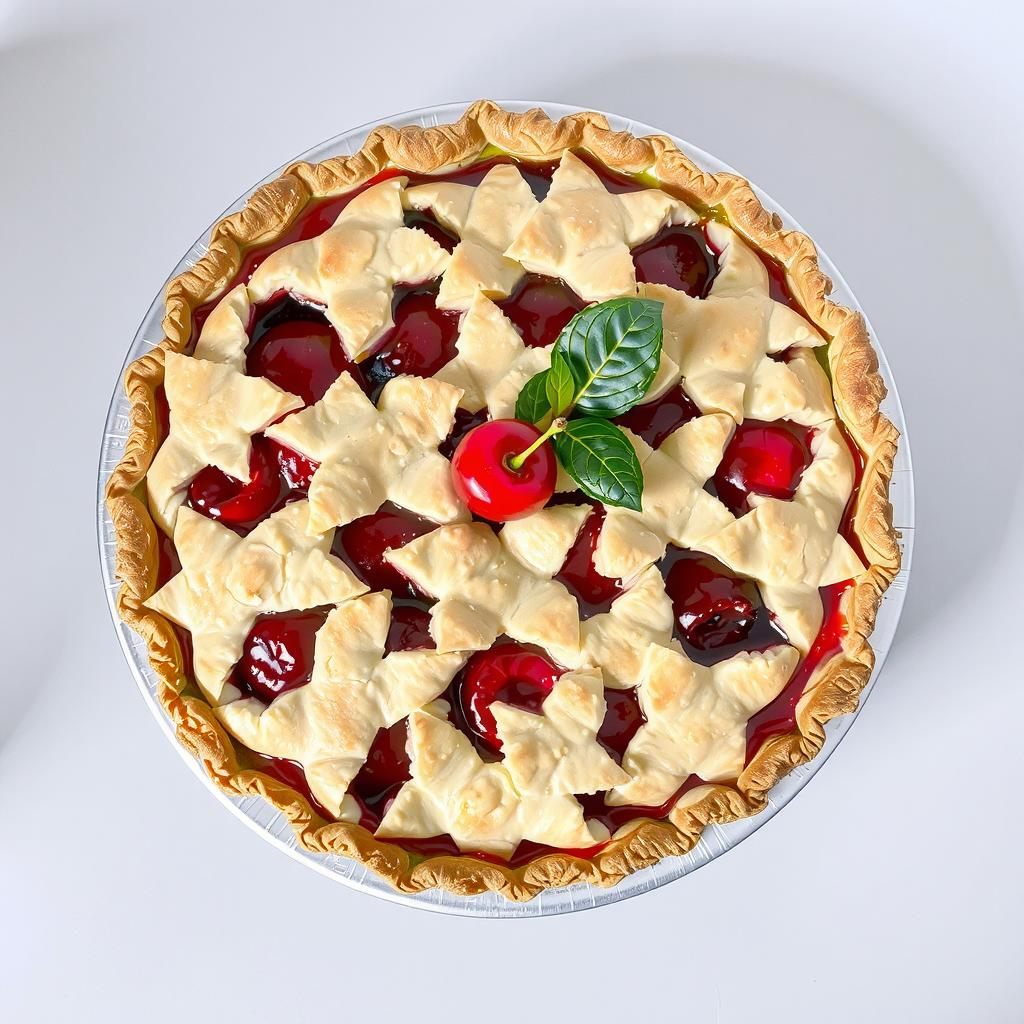pie: (99, 91, 903, 916)
